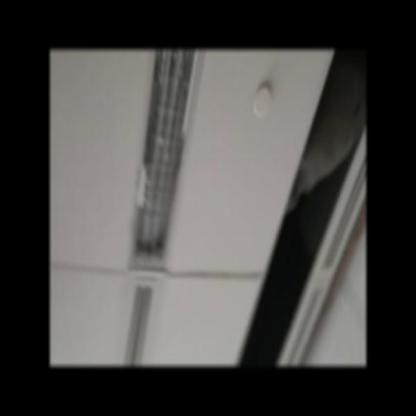light_off: (126, 50, 206, 276)
